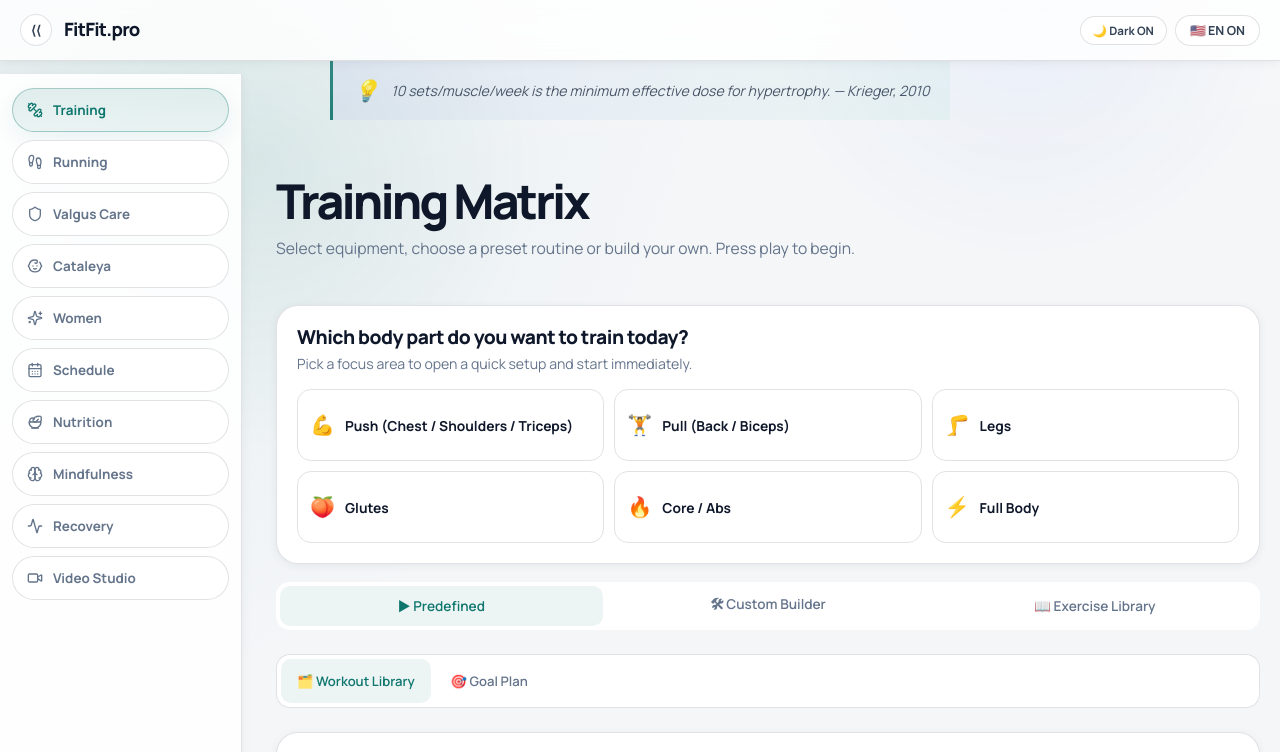
it: App navigation › toggles language labels
Click the button named "Switch to Spanish": (1217, 30) [1175,14,1260,46]
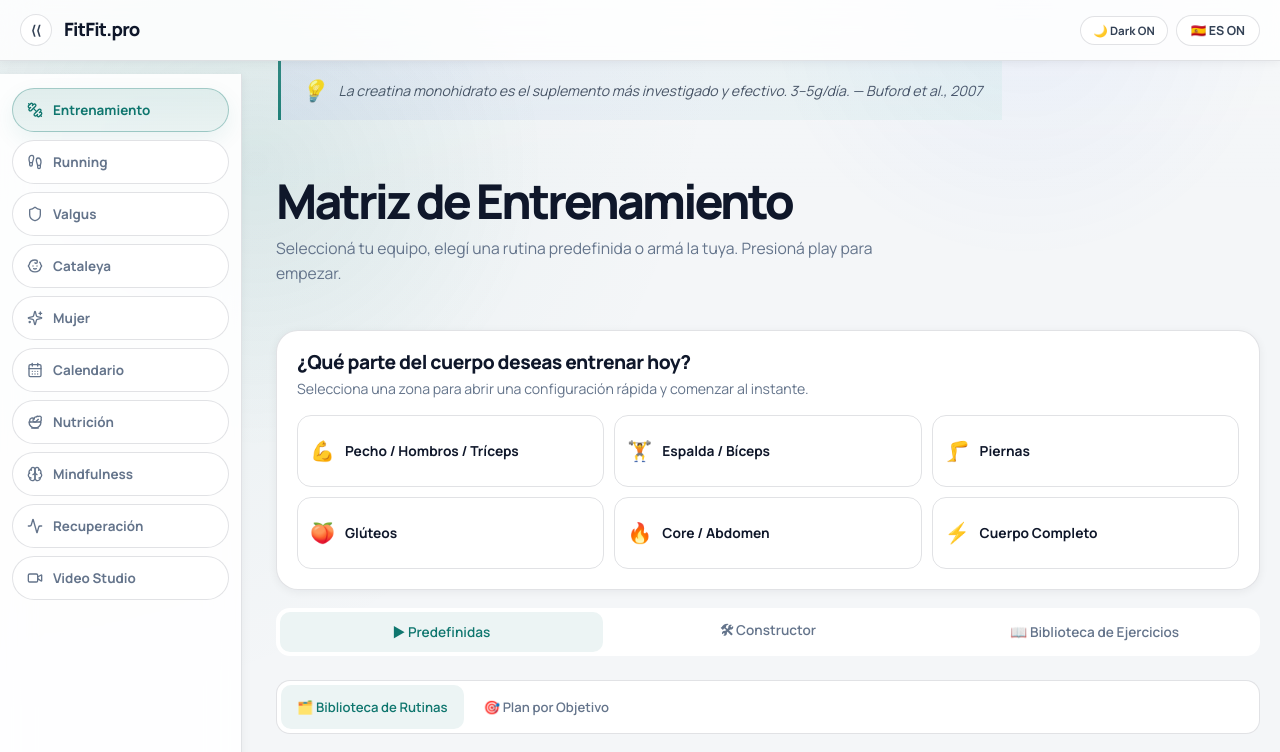
Check: the button "Entrenamiento" is shown, box [12,88,229,132]
